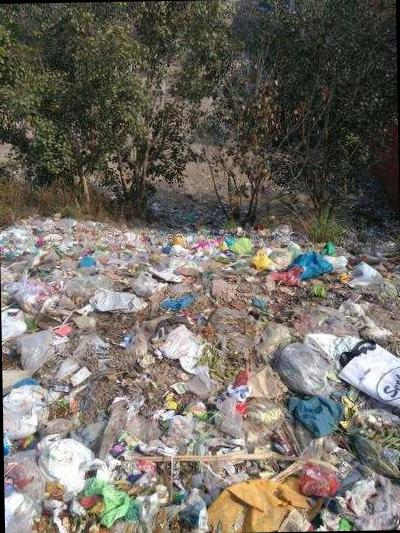trash: (0, 213, 400, 533)
